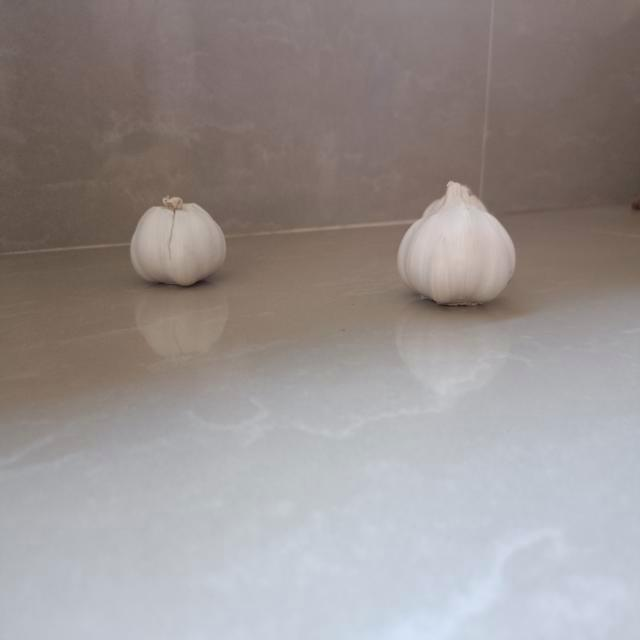garlic: (392, 171, 521, 308), (126, 192, 232, 293)
